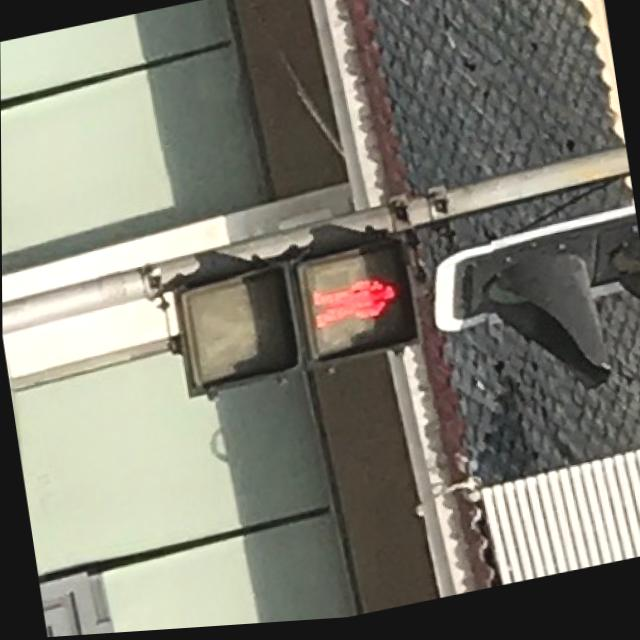red_light: (307, 250, 413, 354)
